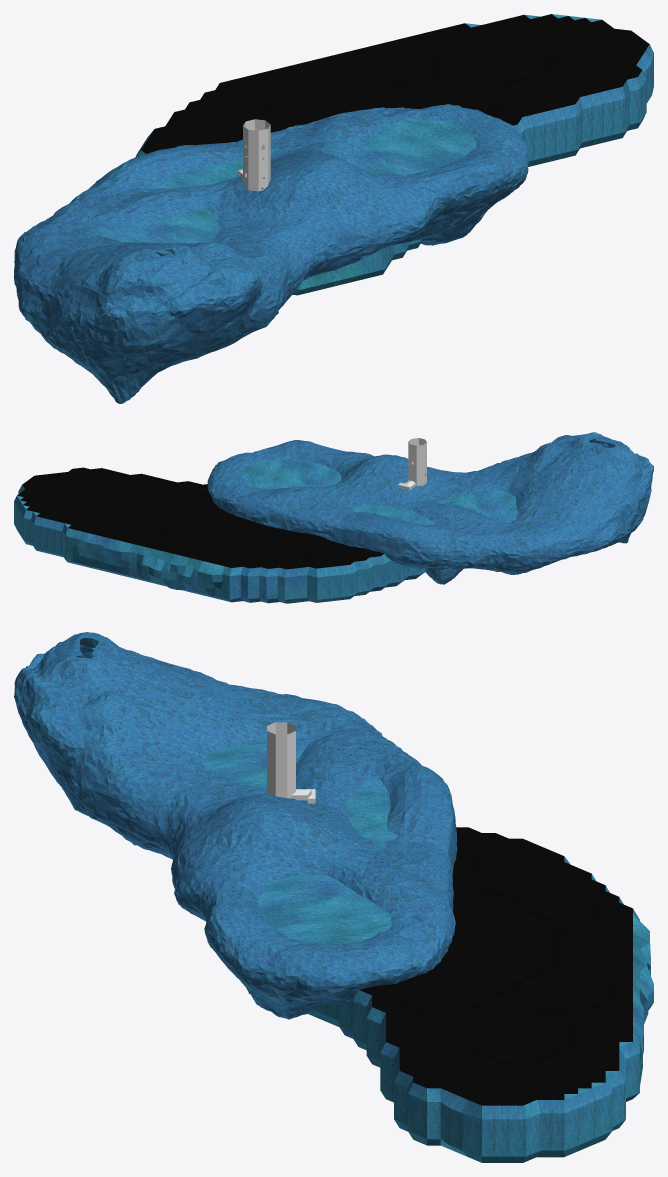
Rendered from temp island 1.fbx.
3 renders of one model, top to bottom at view 1: azimuth 30°, elevation 25°; view 2: azimuth 150°, elevation 25°; view 3: azimuth 270°, elevation 25°, orthographic. The views are drawn at different scales.
Parts seen in each view (by area): view 1: plane_1, plane, circle, circle_2, exterior skin, circle_1; view 2: plane_1, plane, circle, circle_2, exterior skin, circle_1; view 3: plane_1, plane, circle, circle_2, exterior skin, circle_1.
Boxes of the visible parts, <box> form: plane_1: <box>14,104,528,403</box>; plane: <box>135,14,653,295</box>; circle: <box>346,118,476,174</box>; circle_2: <box>74,208,221,253</box>; exterior skin: <box>238,119,270,191</box>; circle_1: <box>147,151,276,188</box>; plane_1: <box>207,432,653,584</box>; plane: <box>14,467,425,603</box>; circle: <box>239,459,341,489</box>; circle_2: <box>443,490,517,531</box>; exterior skin: <box>398,438,426,490</box>; circle_1: <box>343,504,435,525</box>; plane_1: <box>14,632,457,1019</box>; plane: <box>307,827,653,1162</box>; circle: <box>258,874,391,944</box>; circle_2: <box>202,728,339,789</box>; exterior skin: <box>267,722,315,803</box>; circle_1: <box>345,777,397,849</box>.
Size of the model in its own units: 70350 by 16011 by 46611.
